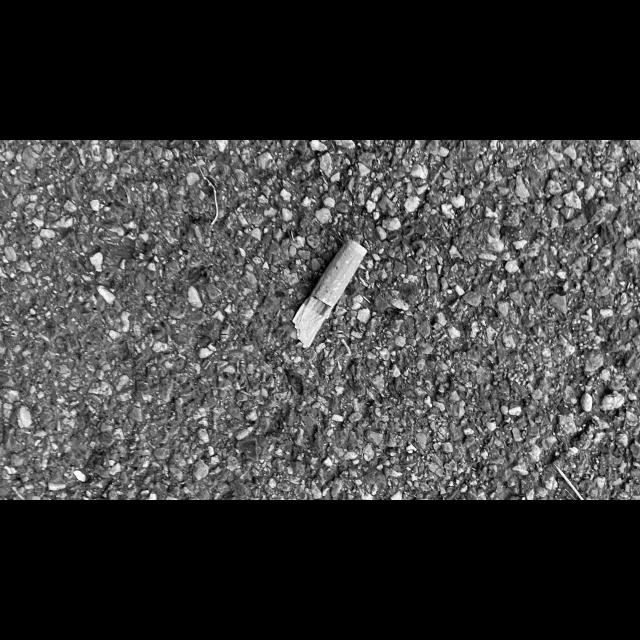cigarette: (291, 238, 368, 349)
